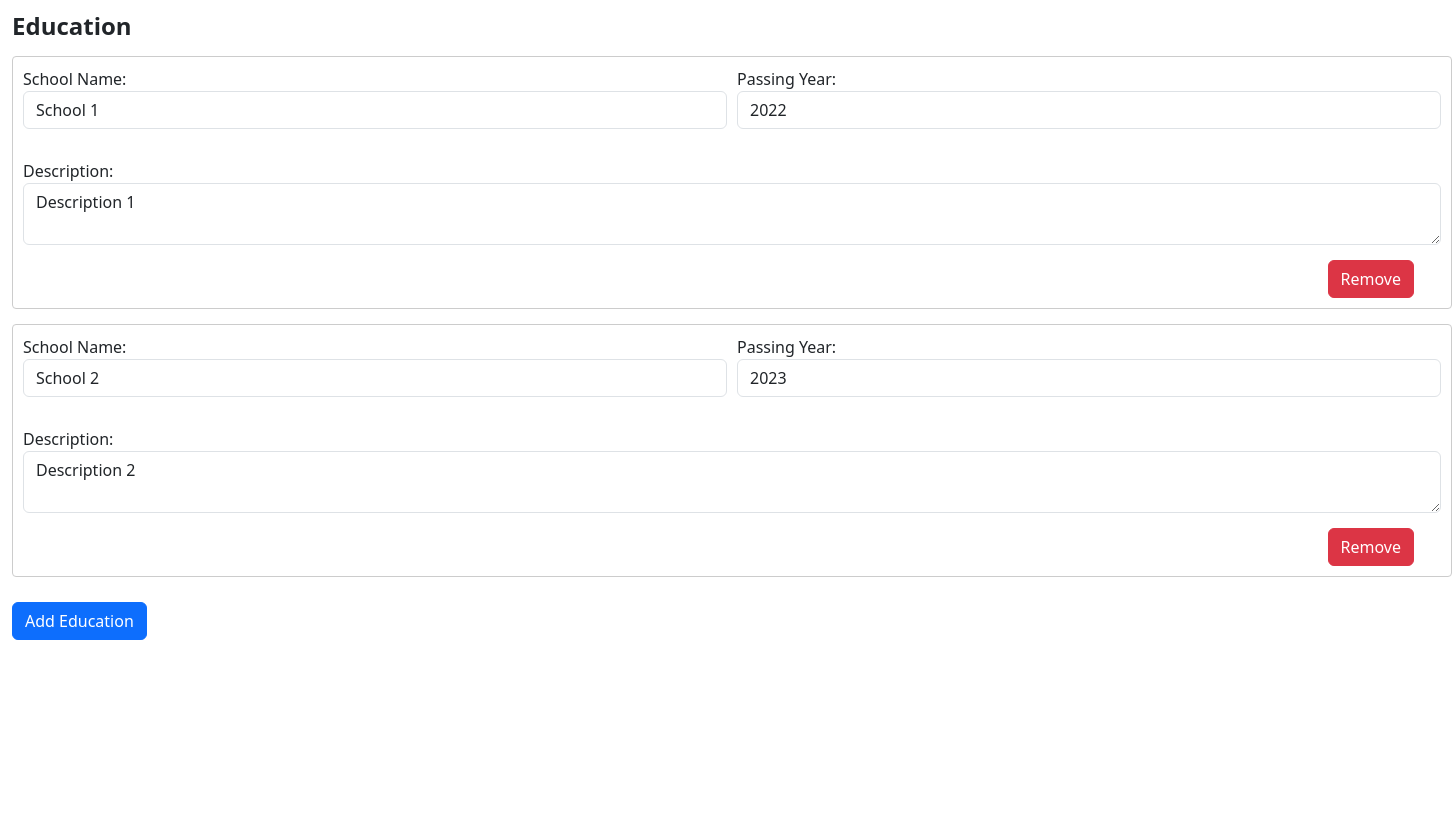
Education › removes an education entry when remove button is clicked
Simulate clicking on the remove button of the first education entry
Click the 1st button "Remove".
click(1371, 279)  # box left=1328, top=260, right=1414, bottom=298
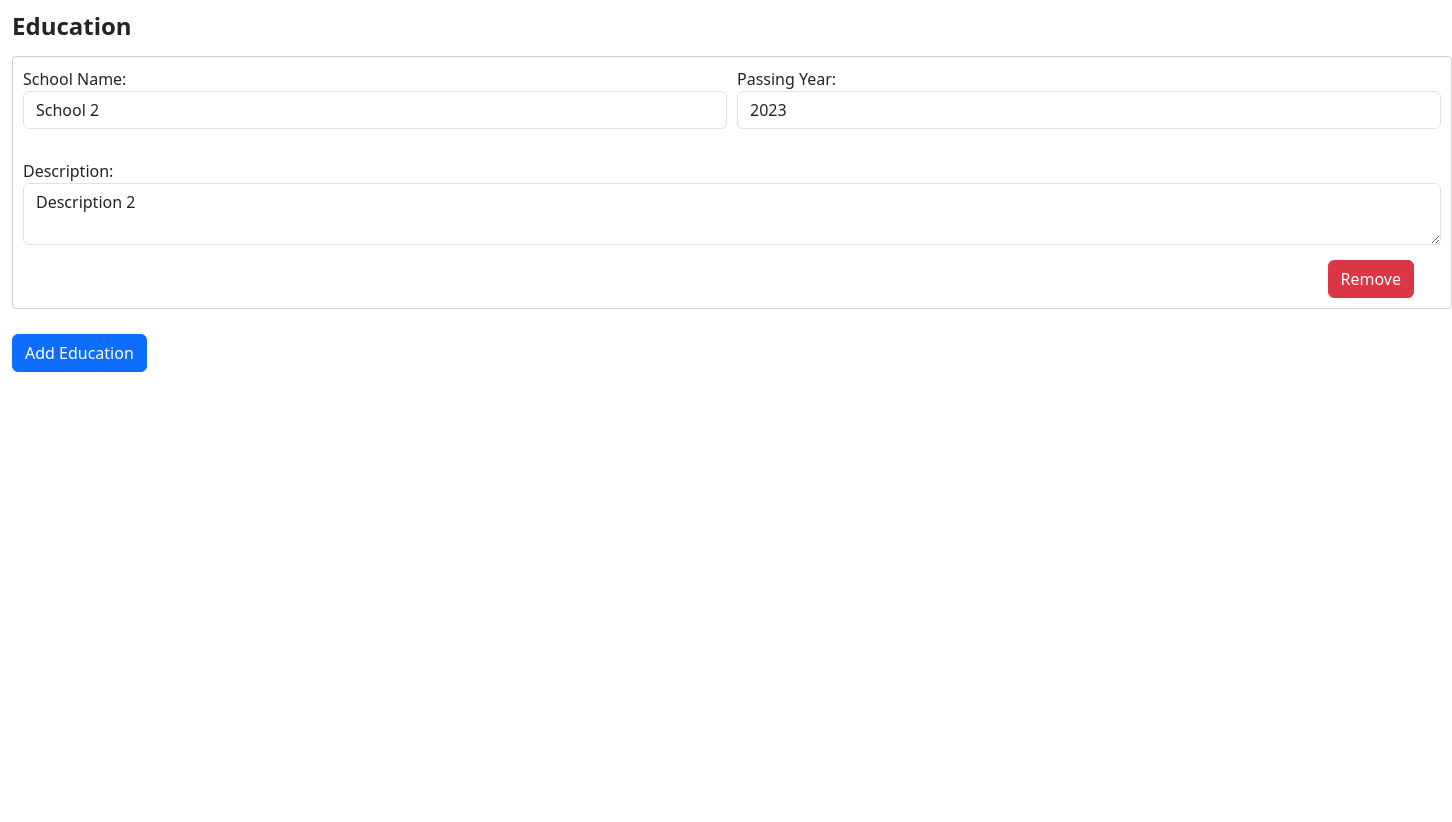
expect the field labelled "School Name:" holds "School 2": met, box left=23, top=91, right=727, bottom=129
expect the field labelled "Passing Year:" holds "2023": met, box left=737, top=91, right=1441, bottom=129
expect the text box labelled "Description:" holds "Description 2": met, box left=23, top=183, right=1441, bottom=245
